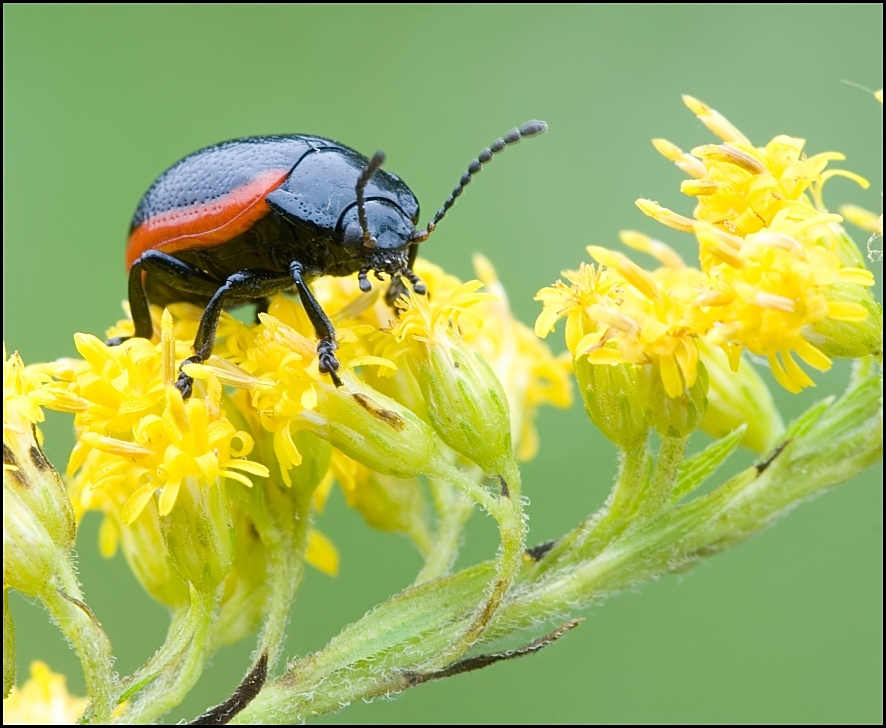Chrysolina_gypsophila: (105, 112, 565, 412)
